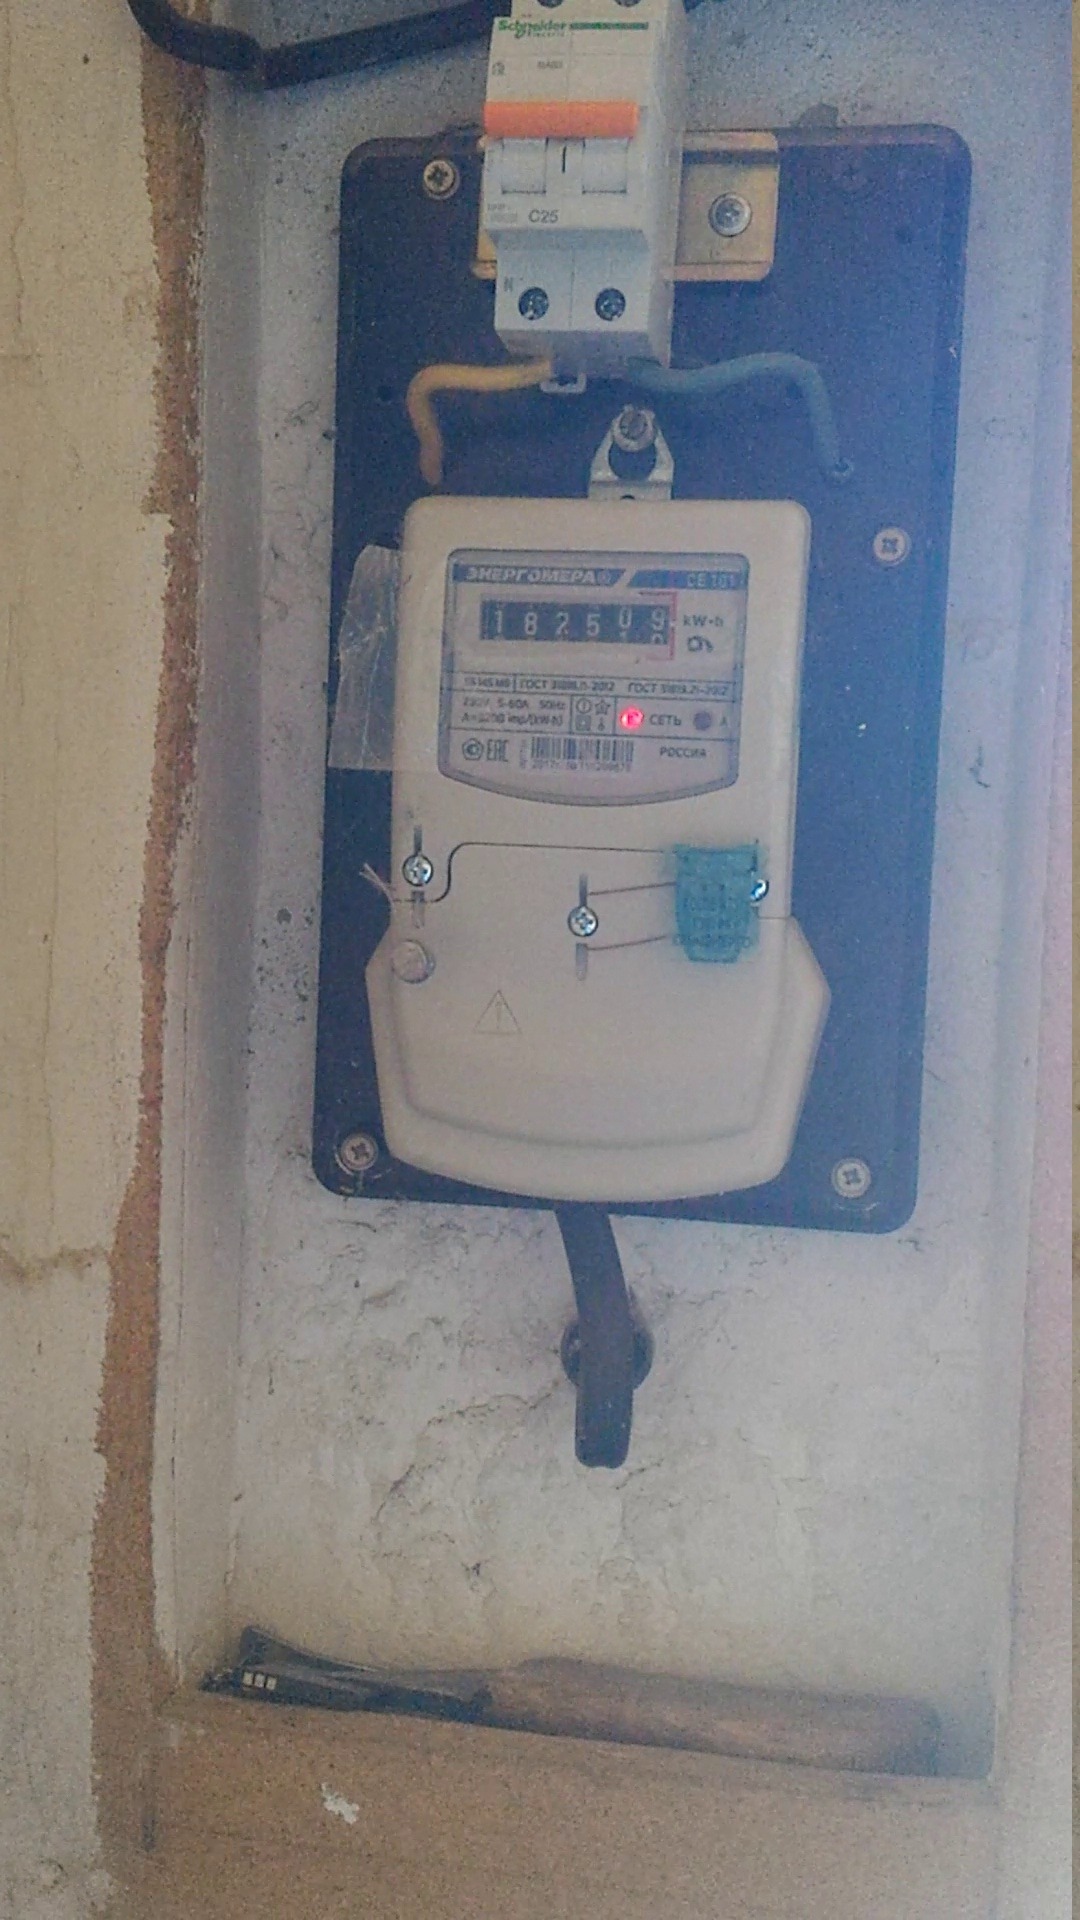counter: (363, 496, 822, 1188)
counter_screen: (479, 599, 671, 646)
